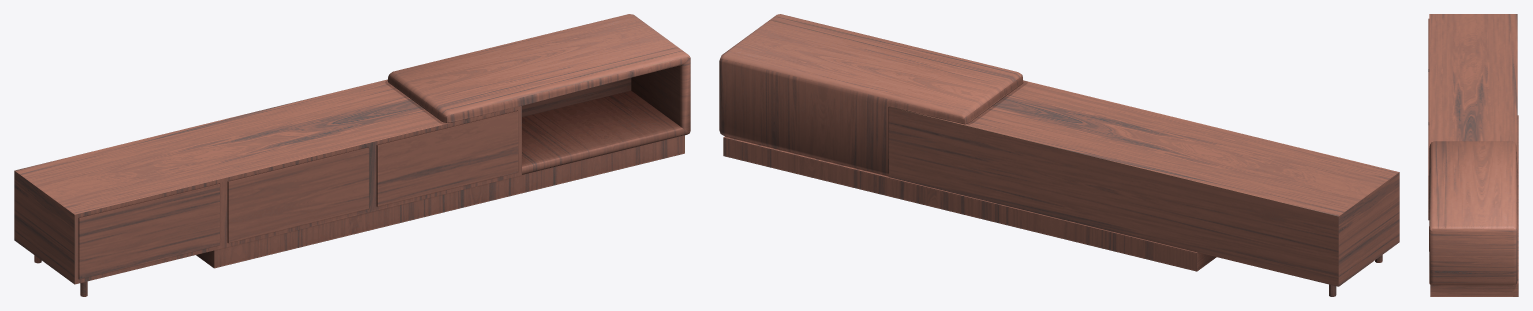
The model's file is Tv Unite_3.fbx.
3 views of the same model, side by side, from view 1: azimuth 30°, elevation 25°; view 2: azimuth 150°, elevation 25°; view 3: azimuth 270°, elevation 25° (orthographic). The views are drawn at different scales.
Parts seen in each view (by area): view 1: Circle; view 2: Circle; view 3: Circle.
Part boxes in pixels (x1,y1,x2,y2): Circle: [14, 14, 690, 296]; Circle: [719, 14, 1399, 296]; Circle: [1428, 14, 1518, 296].
Bounding box in the file's own units: 236 × 35.76 × 40.81.
1 material, 1 textured.
